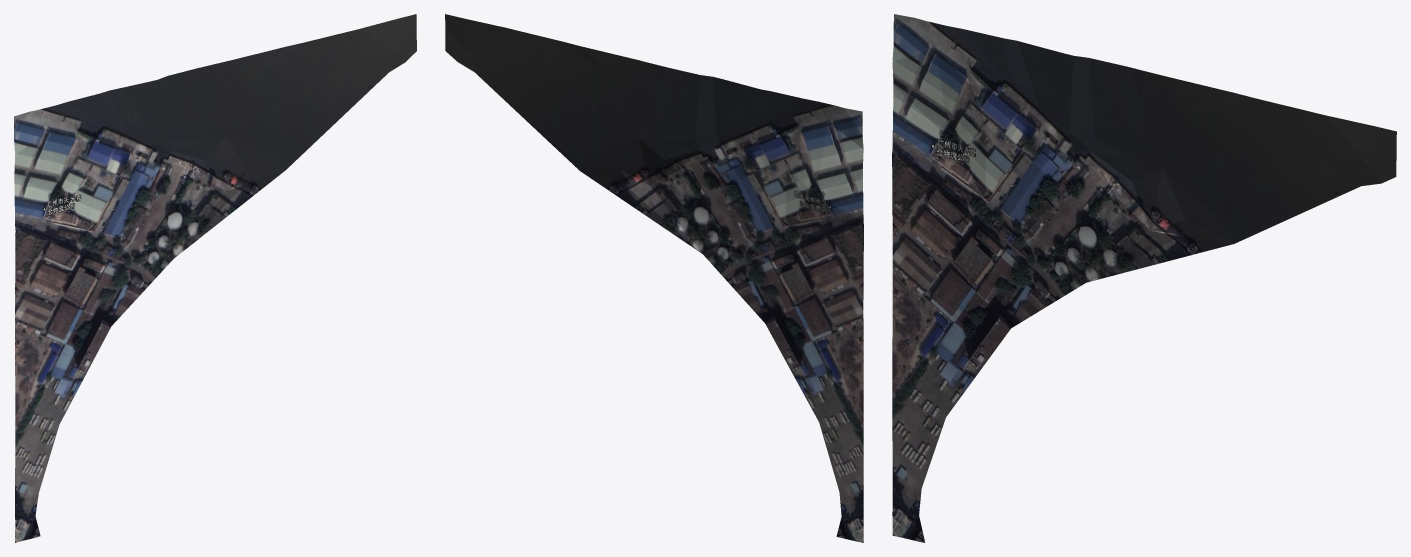
3 views of the same model, side by side, from view 1: azimuth 30°, elevation 25°; view 2: azimuth 150°, elevation 25°; view 3: azimuth 330°, elevation 25° (orthographic). The views are drawn at different scales.
Visible parts, largest first — view 1: 0_3_0_0_0_2; view 2: 0_3_0_0_0_2; view 3: 0_3_0_0_0_2.
Part boxes in pixels (x1,y1,x2,y2): 0_3_0_0_0_2: [14, 14, 416, 542]; 0_3_0_0_0_2: [445, 14, 863, 542]; 0_3_0_0_0_2: [892, 14, 1396, 542].
Size of the model in its own units: 486 by 486 by 12.12.
1 material, 1 textured.
